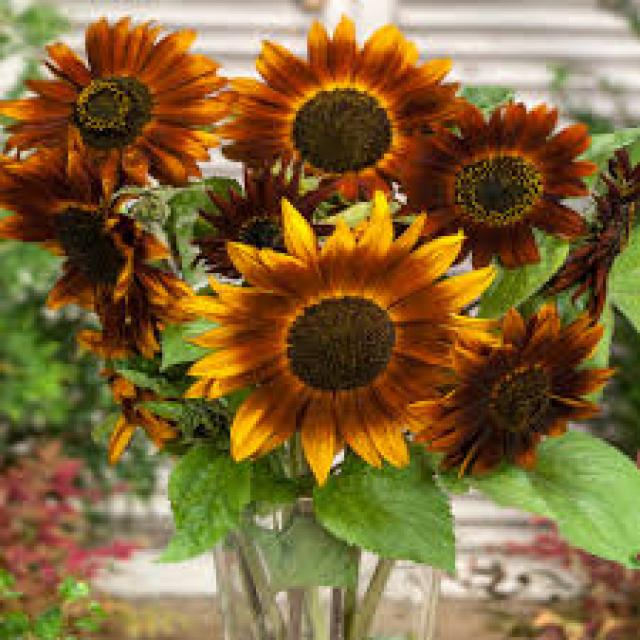sunflower: (174, 184, 530, 486), (206, 10, 491, 240), (0, 6, 245, 220), (0, 149, 202, 369), (402, 298, 621, 493), (407, 92, 607, 274), (189, 150, 368, 302), (88, 366, 192, 476)
